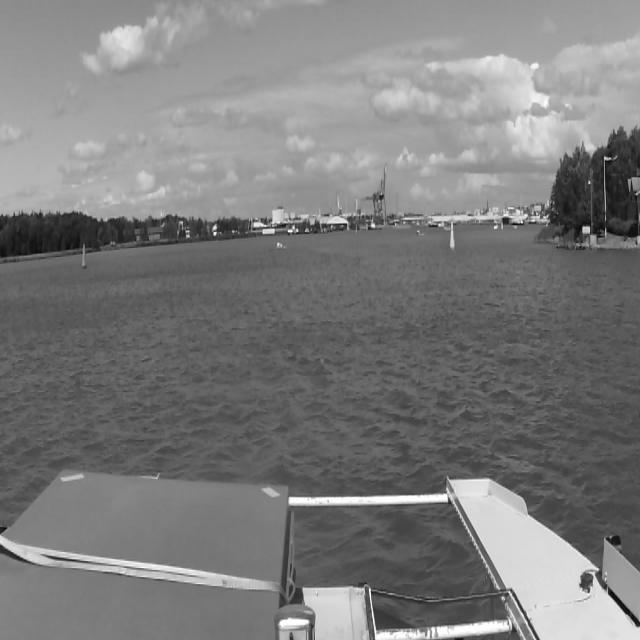buoy: (80, 243, 86, 271), (450, 220, 454, 249), (354, 218, 358, 235)
ship: (276, 234, 284, 249), (413, 227, 421, 237), (277, 243, 283, 249)
